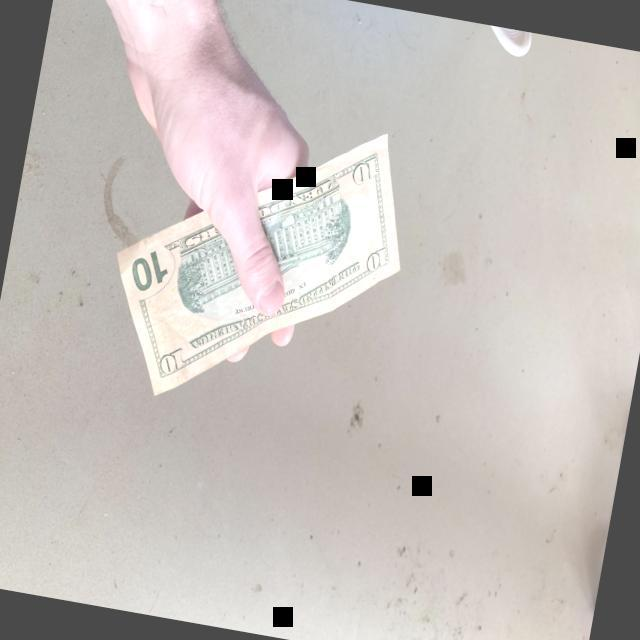ten: (114, 133, 398, 396)
